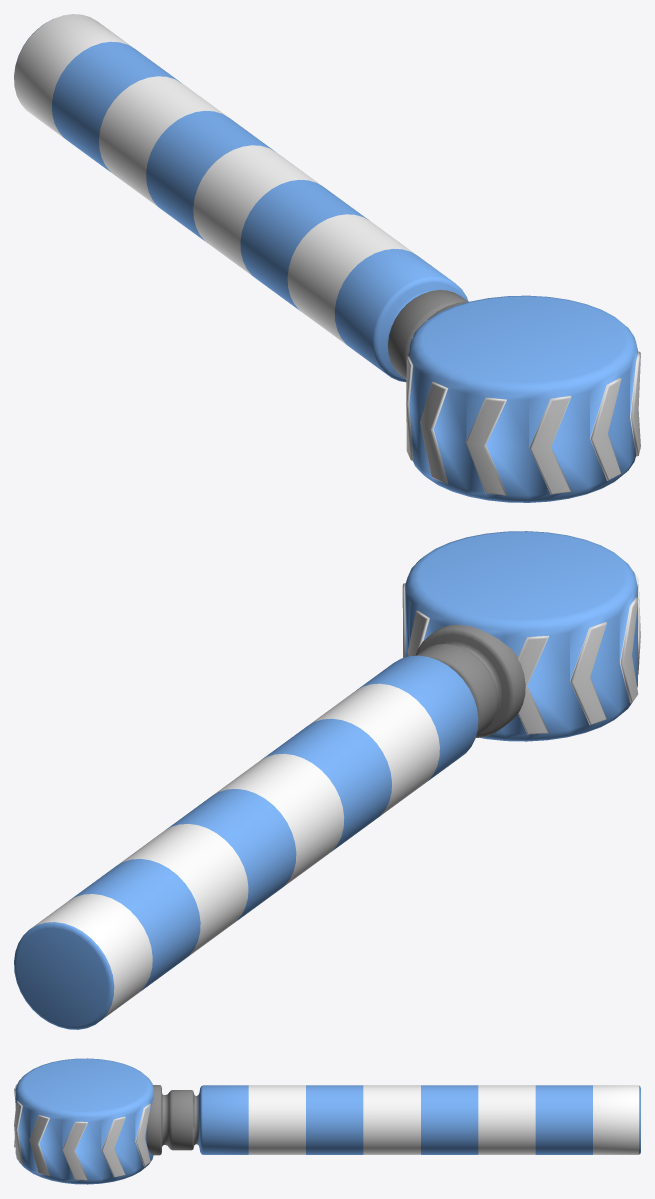
File: arrowtrapbig_001.fbx
3 views of the same model, one above another, from view 1: azimuth 30°, elevation 25°; view 2: azimuth 150°, elevation 25°; view 3: azimuth 270°, elevation 25° (orthographic). The views are drawn at different scales.
Parts seen in each view (by area): view 1: Cylinder.018; view 2: Cylinder.018; view 3: Cylinder.018.
Boxes of the visible parts, left/top/right/bottom form: Cylinder.018: left=14, top=14, right=640, bottom=502; Cylinder.018: left=14, top=531, right=640, bottom=1029; Cylinder.018: left=14, top=1058, right=640, bottom=1184.
Size of the model in its own units: 77.55 by 43.4 by 340.
2 materials, 1 textured.
